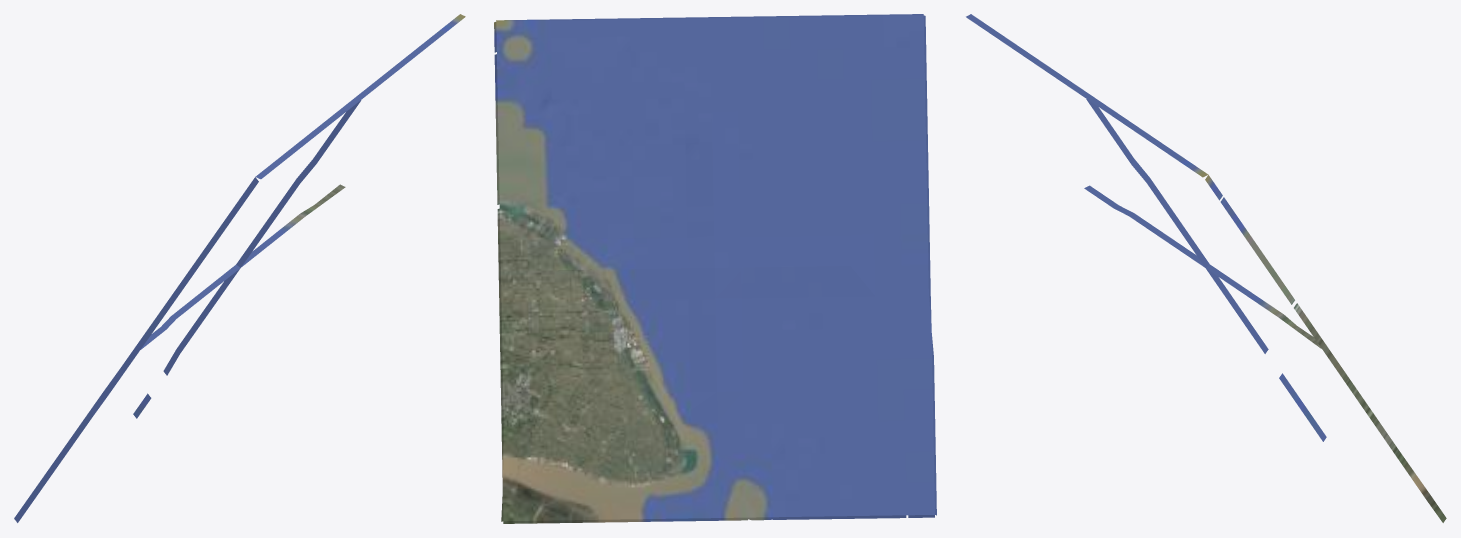
3 renders of one model, left to right at view 1: azimuth 30°, elevation 25°; view 2: azimuth 150°, elevation 25°; view 3: azimuth 270°, elevation 25°, orthographic. The views are drawn at different scales.
Bounding box in the file's own units: 79385 × 67195 × 71465.
1 material, 1 textured.
